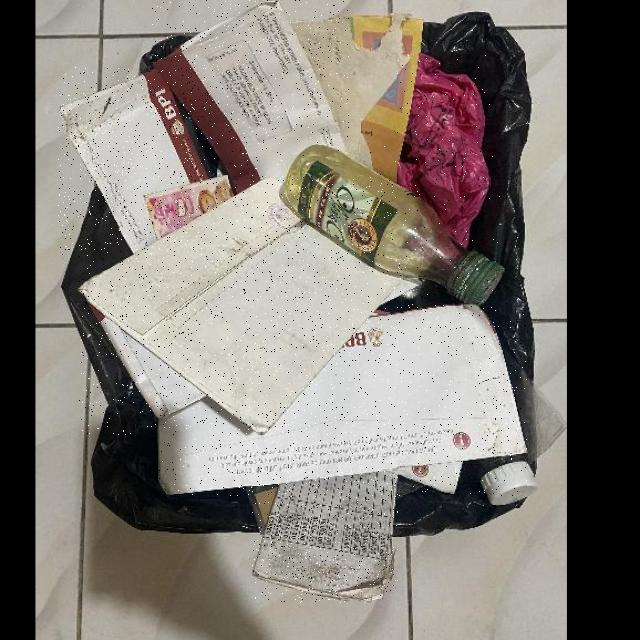glass: (284, 144, 505, 308)
paper: (79, 177, 407, 436), (158, 303, 527, 496), (153, 0, 349, 194), (58, 68, 209, 255), (251, 470, 398, 603)
plastic: (398, 54, 490, 250)
